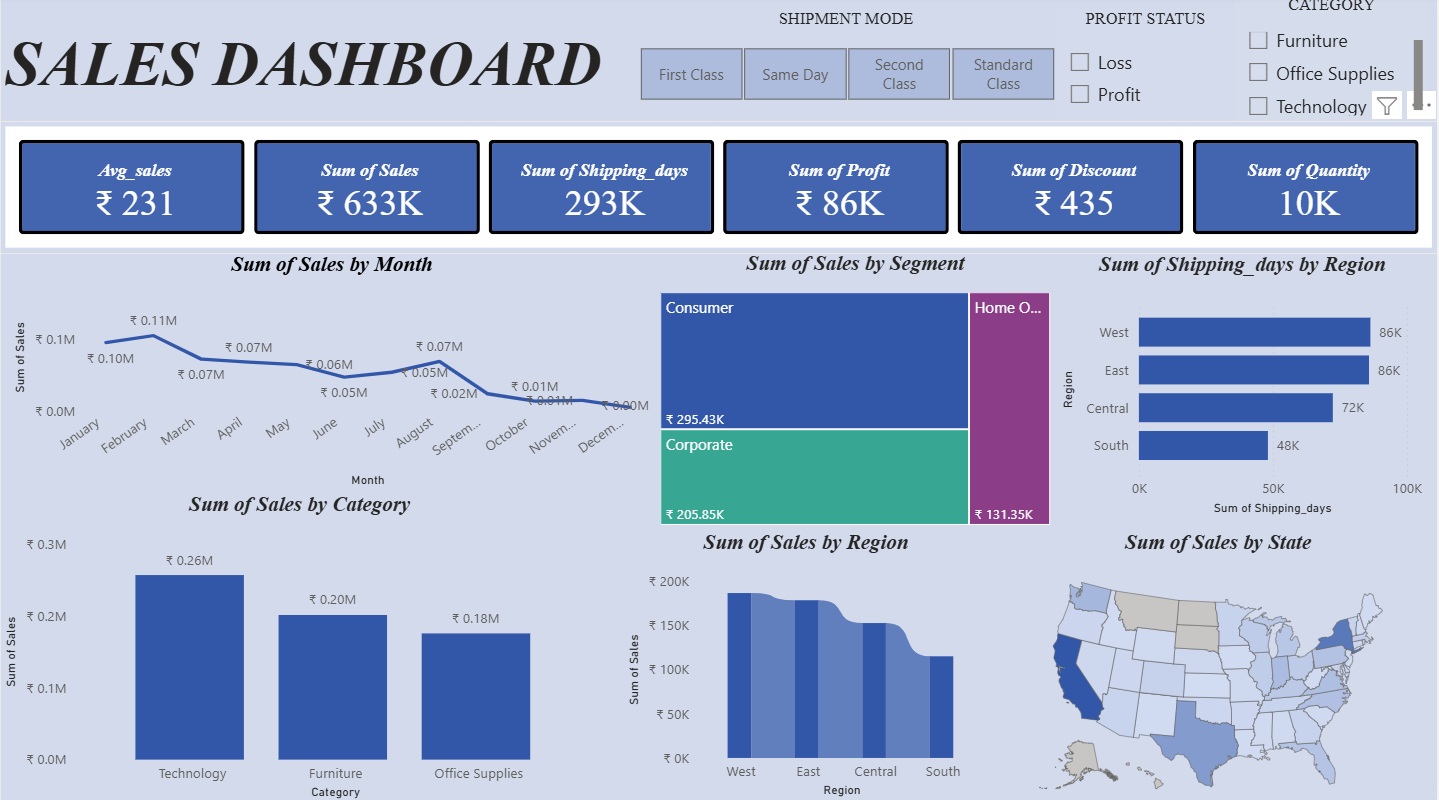

Layout of this report page (visuals, bound fields, positions):
{"tool":"powerbi","page":{"name":"Page 1","canvas":[1280,720],"ordinal":0},"visuals":[{"type":"lineChart","fields":{"Y":["Sum(Sample - Superstore.Sales)"],"Category":["Sample - Superstore.Order Date.Variation.Date Hierarchy.Month"]},"box":[8.1,227.9,575.6,214],"z":0,"group":"g1"},{"type":"clusteredColumnChart","fields":{"Category":["Sample - Superstore.Category"],"Y":["Sum(Sample - Superstore.Sales)"]},"box":[0,441.9,533.7,277.9],"z":1000,"group":"g1"},{"type":"barChart","fields":{"Category":["Sample - Superstore.Region"],"Y":["Sum(Sample - Superstore.Shipping_days)"]},"box":[940.7,227.9,331.4,238.4],"z":2000,"group":"g1"},{"type":"shapeMap","fields":{"Value":["Sum(Sample - Superstore.Sales)"],"Category":["Sample - Superstore.State"]},"box":[889.5,475.6,390.7,244.2],"z":3000,"group":"g1"},{"type":"treemap","fields":{"Values":["Sum(Sample - Superstore.Sales)"],"Group":["Sample - Superstore.Segment"]},"box":[583.7,226.7,357,248.8],"z":4000,"group":"g1"},{"type":"ribbonChart","fields":{"Y":["Sum(Sample - Superstore.Sales)"],"Category":["Sample - Superstore.Region"]},"box":[554.7,475.6,326.7,243],"z":5000,"group":"g1"},{"type":"cardVisual","fields":{"Data":["Sample - Superstore.Avg_sales","Sum(Sample - Superstore.Sales)","Sum(Sample - Superstore.Shipping_days)","Sum(Sample - Superstore.Profit)","Sum(Sample - Superstore.Discount)","Sum(Sample - Superstore.Quantity)"]},"box":[0,111.6,1280.2,118.6],"z":6000,"group":"g1"},{"type":"textbox","box":[0,24.5,602.3,87.2],"z":7000,"group":"g1"},{"type":"slicer","title":"CATEGORY","fields":{"Values":["Sample - Superstore.Category"]},"box":[1100,0,172.1,111.6],"z":8000,"group":"g1"},{"type":"slicer","title":"PROFIT STATUS","fields":{"Values":["Sample - Superstore.Profit_status"]},"box":[940.7,12.8,159.3,100],"z":9000,"group":"g1"},{"type":"slicer","title":"SHIPMENT MODE","fields":{"Values":["Sample - Superstore.Ship Mode"]},"box":[544.2,12.8,418.6,87.2],"z":10000,"group":"g1"},{"type":"group","id":"g1","title":"Group 1","box":[0,0,1280.2,719.8],"z":10001}]}

Visuals, with their boxes in screenshot pixels (x1, y1, x2, y2), scaled from the page's 1280x720 canvas onto the 1439x800 screenshot:
lineChart - Sum(Sample - Superstore.Sales) x Sample - Superstore.Order Date.Variation.Date Hierarchy.Month: x1=9 y1=253 x2=656 y2=491
clusteredColumnChart - Sample - Superstore.Category x Sum(Sample - Superstore.Sales): x1=0 y1=491 x2=600 y2=799
barChart - Sample - Superstore.Region x Sum(Sample - Superstore.Shipping_days): x1=1058 y1=253 x2=1430 y2=518
shapeMap - Sum(Sample - Superstore.Sales) x Sample - Superstore.State: x1=1000 y1=528 x2=1438 y2=799
treemap - Sum(Sample - Superstore.Sales) x Sample - Superstore.Segment: x1=656 y1=252 x2=1058 y2=528
ribbonChart - Sum(Sample - Superstore.Sales) x Sample - Superstore.Region: x1=624 y1=528 x2=991 y2=798
cardVisual - Sample - Superstore.Avg_sales x Sum(Sample - Superstore.Sales): x1=0 y1=124 x2=1438 y2=256
textbox: x1=0 y1=27 x2=677 y2=124
"CATEGORY" slicer: x1=1237 y1=0 x2=1430 y2=124
"PROFIT STATUS" slicer: x1=1058 y1=14 x2=1237 y2=125
"SHIPMENT MODE" slicer: x1=612 y1=14 x2=1082 y2=111
"Group 1" group: x1=0 y1=0 x2=1438 y2=799
